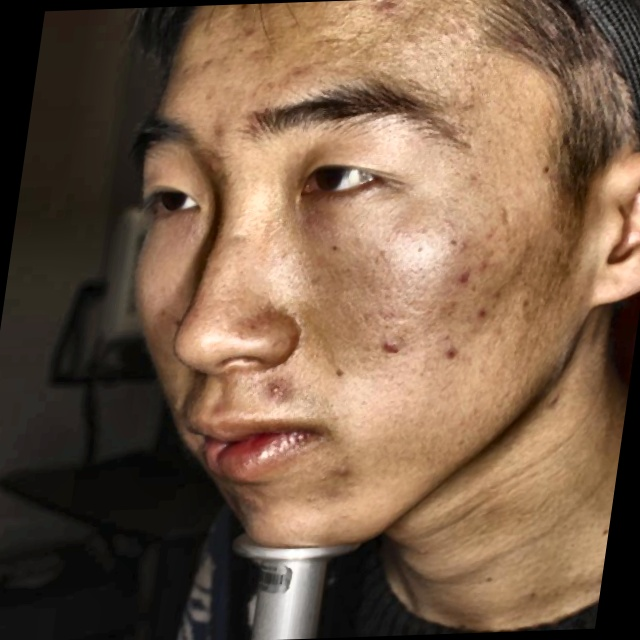comedone: (262, 378, 290, 403)
